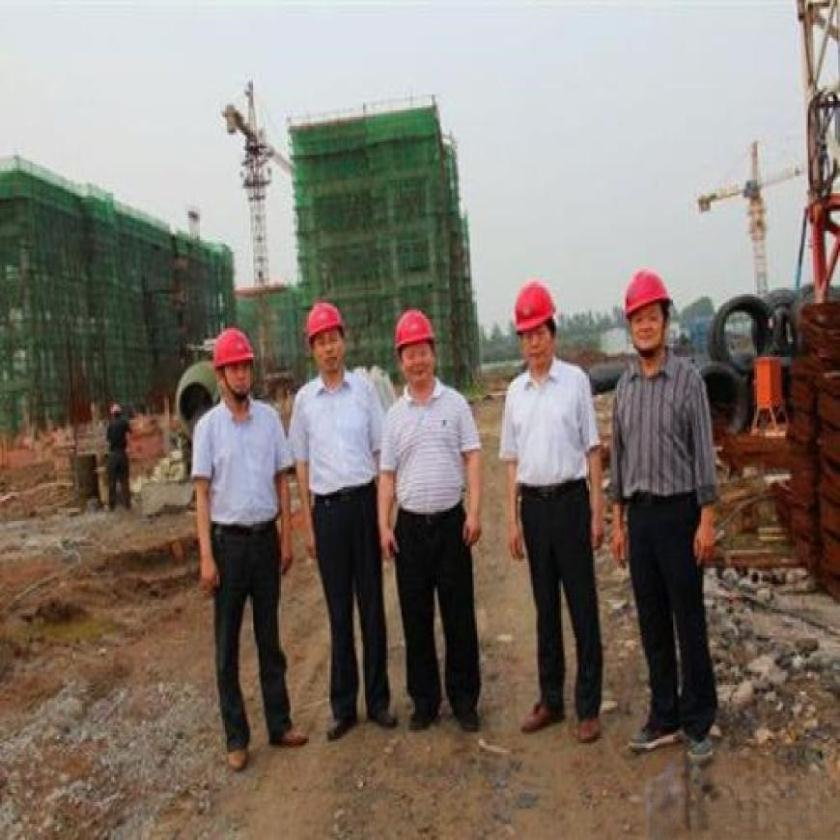Con_casco: (615, 263, 677, 364), (510, 271, 571, 373), (300, 297, 355, 391), (210, 324, 262, 410), (394, 302, 446, 385)
